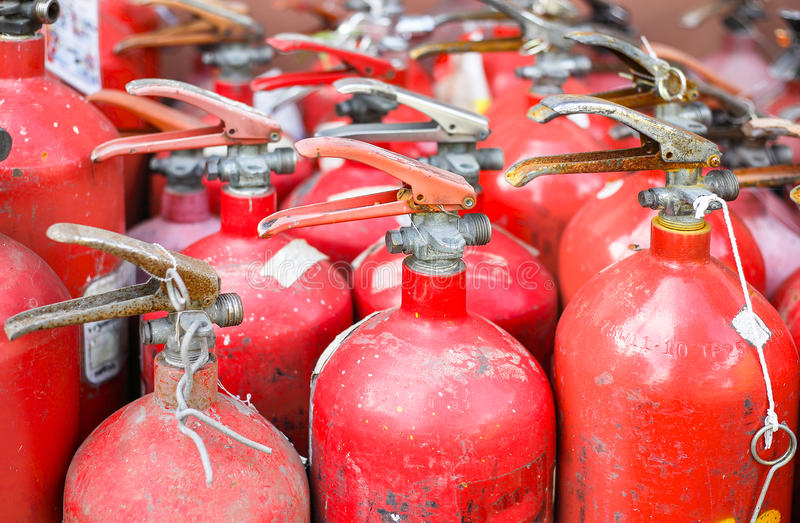fire_extinguisher: (1, 1, 798, 521)
